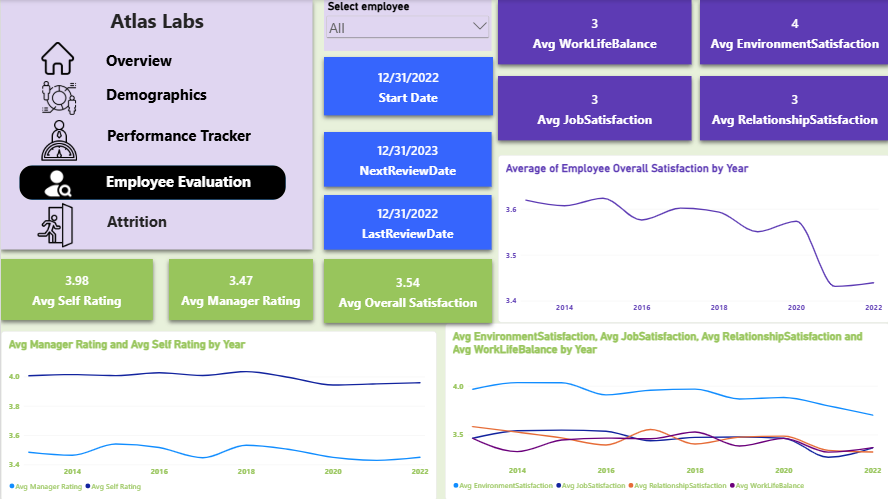

The page's visual inventory and layout, read from the dashboard file:
{"tool":"powerbi","page":{"name":"Employee Evaluation","canvas":[1920,1080],"ordinal":3},"visuals":[{"type":"textbox","title":"Atlas Labe","box":[0,0,673,539],"z":0,"group":"g1"},{"type":"slicer","fields":{"Values":["DimEmployee.FullName"]},"box":[697.2,0,362,109.9],"z":0},{"type":"image","box":[39.8,90.7,166.6,71.3],"z":1000,"group":"g1"},{"type":"card","fields":{"Values":["_Measures.Start Date"]},"box":[697.2,123.4,364.7,126],"z":1000},{"type":"shape","box":[39.5,357.4,577.3,76],"z":2000,"group":"g1"},{"type":"card","fields":{"Values":["_Measures.LastReviewDate"]},"box":[697.2,421,362,118],"z":2000},{"type":"textbox","box":[225.9,109,273.6,270],"z":3000,"group":"g1"},{"type":"card","fields":{"Values":["_Measures.NextReviewDate"]},"box":[697.2,284.2,362,118],"z":3000},{"type":"card","fields":{"Values":["_Measures.JobSatisfaction"]},"box":[1072.6,163.6,418.3,139.4],"z":4000},{"type":"image","box":[23.2,260.1,203.8,88.5],"z":4000,"group":"g1"},{"type":"card","fields":{"Values":["_Measures.EnvironmentSatisfaction"]},"box":[1509.7,0,410.3,139.4],"z":5000},{"type":"image","box":[30.9,434.4,172.9,104.6],"z":5000,"group":"g1"},{"type":"card","fields":{"Values":["_Measures.RelationshipSatisfaction"]},"box":[1509.7,163.6,410.3,139.4],"z":6000},{"type":"textbox","box":[225.9,182.4,410.3,306.7],"z":6000,"group":"g1"},{"type":"card","fields":{"Values":["_Measures.WorkLifeBalance"]},"box":[1072.6,0,418.3,139.4],"z":7000},{"type":"textbox","box":[228.5,270.8,413.7,163.6],"z":7000,"group":"g1"},{"type":"textbox","box":[226.4,369.4,446.6,119.1],"z":8000,"group":"g1"},{"type":"card","fields":{"Values":["_Measures.Avg Manger Rating"]},"box":[362.9,559.4,311,131.8],"z":8000},{"type":"textbox","box":[228.5,455.9,389,83.1],"z":9000,"group":"g1"},{"type":"card","fields":{"Values":["_Measures.Avg Self Rating"]},"box":[0,559.4,328.3,131.8],"z":9000},{"type":"image","box":[55.3,175.9,139.3,73.4],"z":10000,"group":"g1"},{"type":"lineChart","fields":{"Category":["DimDate.Date.Variation.Date Hierarchy.Year"],"Y":["_Measures.Avg Manger Rating","_Measures.Avg Self Rating"]},"box":[0,716,941.2,367.4],"z":10000},{"type":"lineChart","fields":{"Category":["DimDate.Date.Variation.Date Hierarchy.Year"],"Y":["Avg(FactPerformanceRating.Employee Overall Satisfaction)"]},"box":[1072.6,335.2,847.4,362],"z":11000},{"type":"image","box":[72.9,365,100.3,63.4],"z":11000,"group":"g1"},{"type":"lineChart","fields":{"Category":["DimDate.Date.Variation.Date Hierarchy.Year"],"Y":["_Measures.Avg EnvironmentSatisfaction","_Measures.Avg JobSatisfaction","_Measures.Avg RelationshipSatisfaction","_Measures.Avg WorkLifeBalance"]},"box":[960,697.2,960,383.5],"z":12000},{"type":"group","id":"g1","title":"Group 1","box":[0,0,673.1,539],"z":13000},{"type":"card","fields":{"Values":["_Measures.Avg Overall Satisfaction"]},"box":[697.7,559.4,362.9,138.2],"z":14000}]}

Visuals, with their boxes in screenshot pixels (x1, y1, x2, y2), scaled from the page's 1920x1080 canvas onto the 888x499 screenshot:
"Atlas Labe" textbox: left=0, top=0, right=311, bottom=249
slicer - DimEmployee.FullName: left=322, top=0, right=490, bottom=51
image: left=18, top=42, right=95, bottom=75
card - _Measures.Start Date: left=322, top=57, right=491, bottom=115
shape: left=18, top=165, right=285, bottom=200
card - _Measures.LastReviewDate: left=322, top=195, right=490, bottom=249
textbox: left=104, top=50, right=231, bottom=175
card - _Measures.NextReviewDate: left=322, top=131, right=490, bottom=186
card - _Measures.JobSatisfaction: left=496, top=76, right=690, bottom=140
image: left=11, top=120, right=105, bottom=161
card - _Measures.EnvironmentSatisfaction: left=698, top=0, right=887, bottom=64
image: left=14, top=201, right=94, bottom=249
card - _Measures.RelationshipSatisfaction: left=698, top=76, right=887, bottom=140
textbox: left=104, top=84, right=294, bottom=226
card - _Measures.WorkLifeBalance: left=496, top=0, right=690, bottom=64
textbox: left=106, top=125, right=297, bottom=201
textbox: left=105, top=171, right=311, bottom=226
card - _Measures.Avg Manger Rating: left=168, top=258, right=312, bottom=319
textbox: left=106, top=211, right=286, bottom=249
card - _Measures.Avg Self Rating: left=0, top=258, right=152, bottom=319
image: left=26, top=81, right=90, bottom=115
lineChart - DimDate.Date.Variation.Date Hierarchy.Year x _Measures.Avg Manger Rating: left=0, top=331, right=435, bottom=498
lineChart - DimDate.Date.Variation.Date Hierarchy.Year x Avg(FactPerformanceRating.Employee Overall Satisfaction): left=496, top=155, right=887, bottom=322
image: left=34, top=169, right=80, bottom=198
lineChart - DimDate.Date.Variation.Date Hierarchy.Year x _Measures.Avg EnvironmentSatisfaction: left=444, top=322, right=887, bottom=498
"Group 1" group: left=0, top=0, right=311, bottom=249
card - _Measures.Avg Overall Satisfaction: left=323, top=258, right=491, bottom=322
